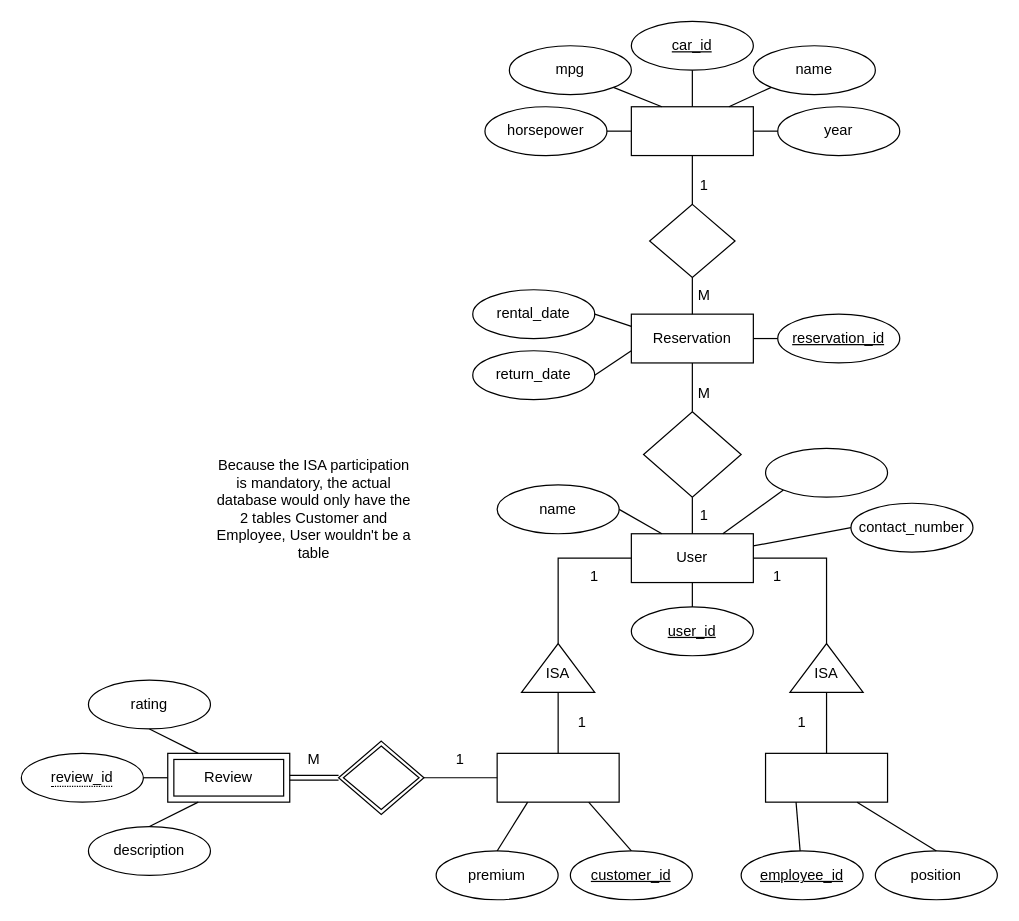
This 1019x921 diagram has some shape labels left out. The centre of each missing label's shape, as x and y in pixels:
"Car" belongs at point 691,131.
"Customer" belongs at point 557,777.
"email" belongs at point 826,472.
"Employee" belongs at point 826,777.
"is made by" belongs at point 691,454.
"is of" belongs at point 691,240.
"Posts" belongs at point 380,777.
